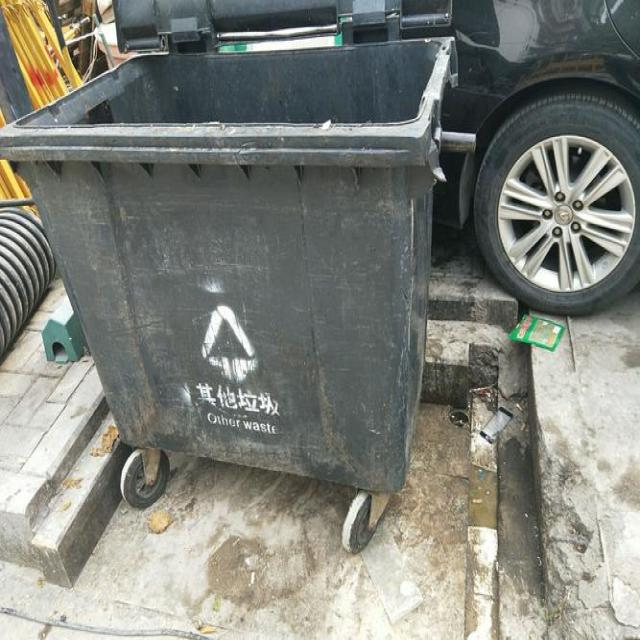garbage_bin: (0, 36, 458, 491)
